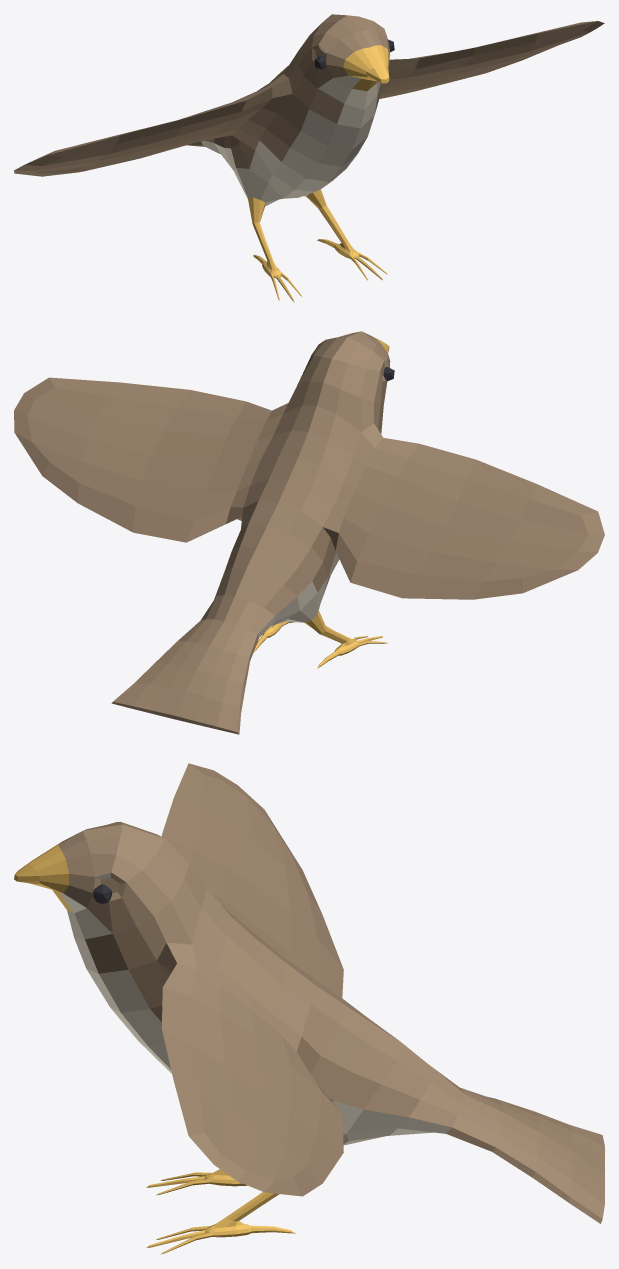
Rendered from passaro.glb.
3 renders of one model, top to bottom at view 1: azimuth 30°, elevation 25°; view 2: azimuth 150°, elevation 25°; view 3: azimuth 270°, elevation 25°, orthographic. The views are drawn at different scales.
Visible parts, largest first — view 1: corpo, asaD, asaE, pernas; view 2: corpo, asaD, asaE, pernas; view 3: corpo, asaE, asaD, pernas.
Part boxes in pixels (x1,y1,x2,y2): corpo: [187, 14, 390, 206]; asaD: [14, 74, 300, 176]; asaE: [379, 21, 604, 98]; pernas: [248, 189, 387, 302]; corpo: [111, 331, 390, 734]; asaD: [323, 423, 604, 599]; asaE: [14, 377, 288, 542]; pernas: [253, 610, 387, 668]; corpo: [14, 821, 604, 1223]; asaE: [150, 942, 343, 1196]; asaD: [161, 763, 343, 997]; pernas: [146, 1169, 295, 1254].
Size of the model in its own units: 0.5397 by 0.2497 by 0.34.
